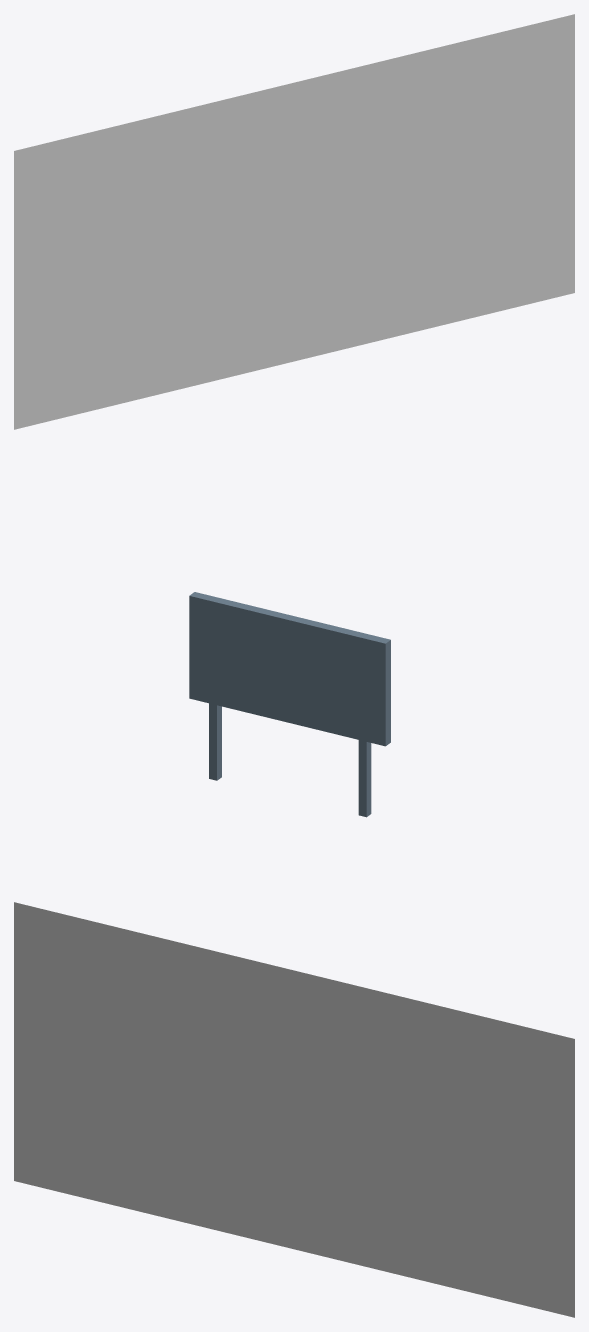
Rendered from big_ad_screen.glb.
3 views of the same model, one above another, from view 1: azimuth 30°, elevation 25°; view 2: azimuth 150°, elevation 25°; view 3: azimuth 330°, elevation 25° (orthographic).
Parts seen in each view (by area): view 1: Ad_Screen_Billboard_Roadside_Dual_Front.001; view 2: Billboard_Roadside_Dual_Struct.001; view 3: Ad_Screen_Billboard_Roadside_Dual_Front.001.
Part boxes in pixels (x1,y1,x2,y2): Ad_Screen_Billboard_Roadside_Dual_Front.001: (14, 14, 574, 429); Billboard_Roadside_Dual_Struct.001: (189, 592, 390, 817); Ad_Screen_Billboard_Roadside_Dual_Front.001: (14, 902, 574, 1317).
Bounding box in the file's own units: 24 × 11.4 × 0.52.
